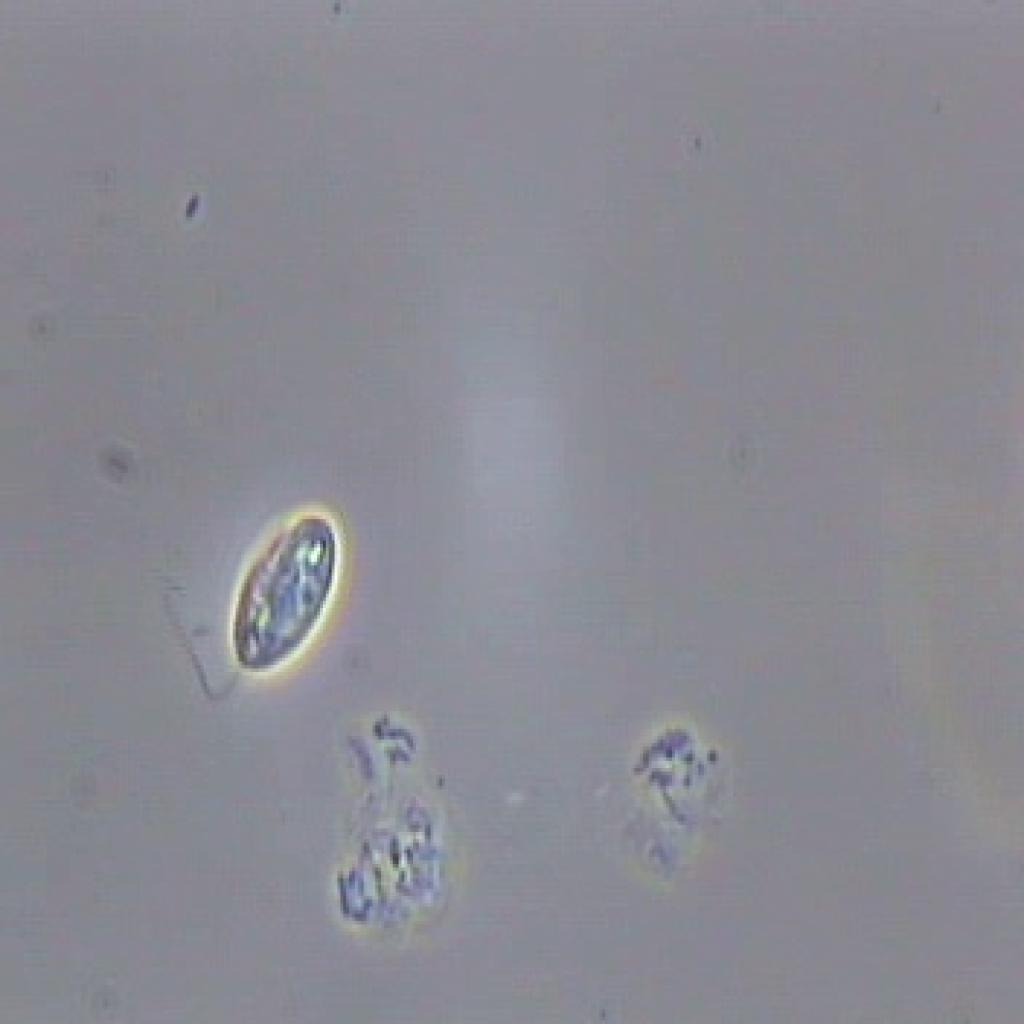Flagellates: (148, 501, 358, 711)
